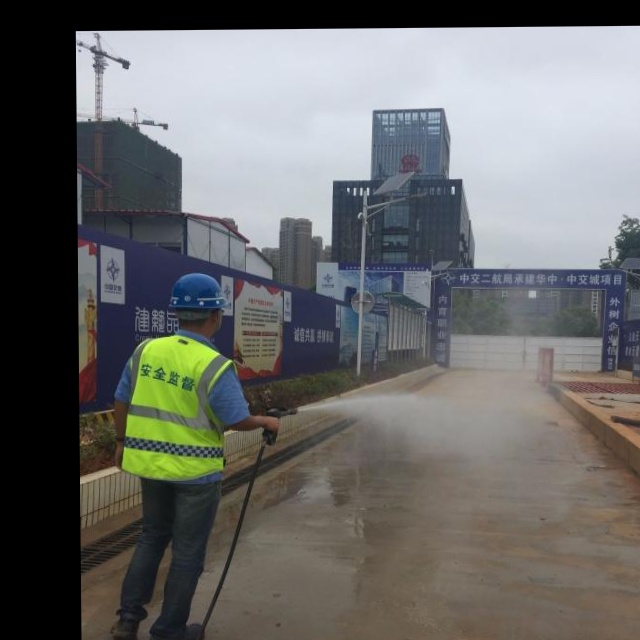Con_Casco: (170, 273, 227, 336)
Con_Chaleco: (121, 342, 232, 479)
